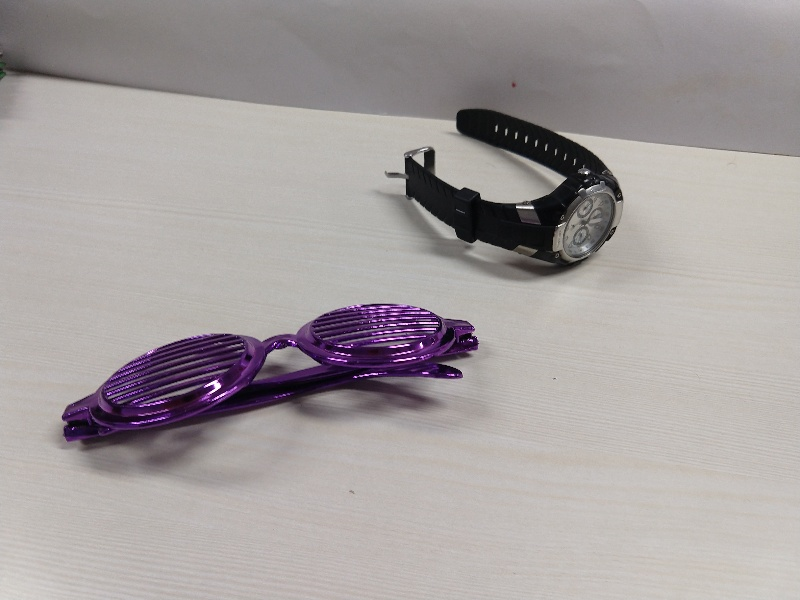shades: (53, 292, 483, 458)
watch: (379, 101, 640, 270)
